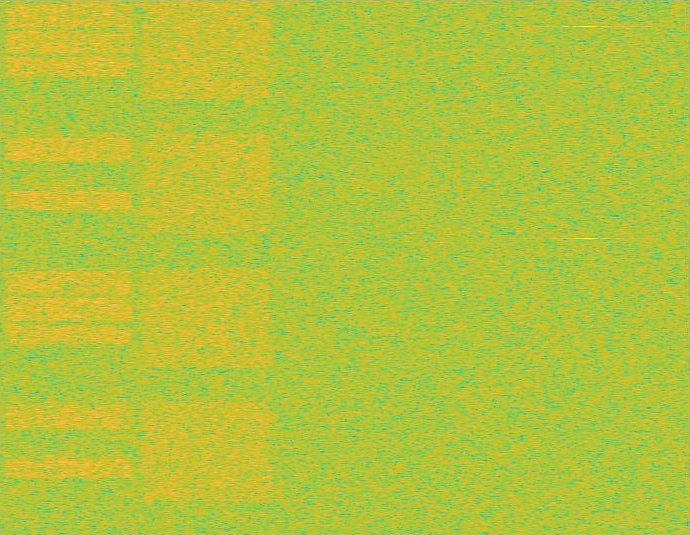5G: (138, 0, 276, 534)
LTE: (0, 0, 138, 534)
Radar: (579, 0, 593, 534)
